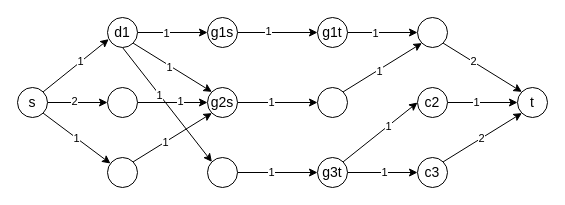
The diagram is 565 pixels wide and 205 high, and some of its shapes have lost their labels. Each missing label, with the centre of its shape:
c1: [432,32]
d2: [122,102]
d3: [122,172]
g2t: [332,102]
g3s: [222,172]
